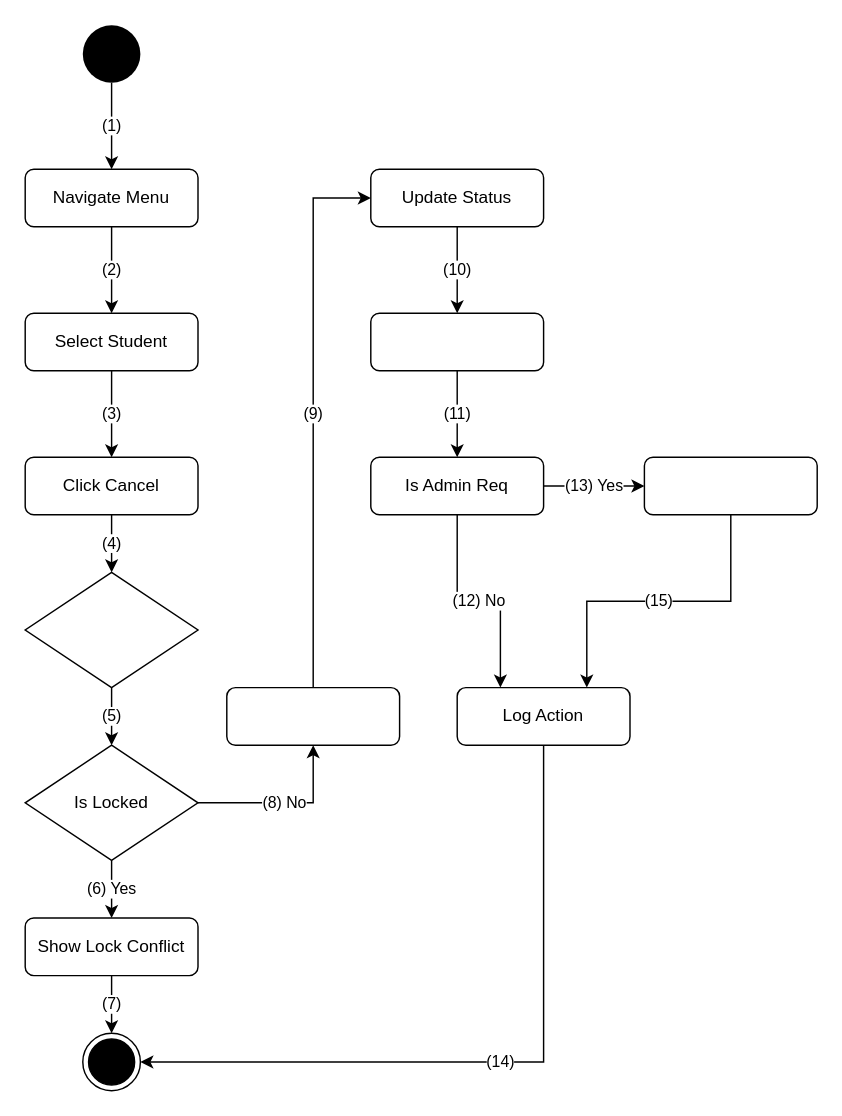
Image size: 842x1116. Some labels were removed from this diagram. The shapes that lost their labels are listed below. From the top down, each one's centre as x and y in pixels, then its label:
At [456,341]: "Check Admin Req".
At [730,485]: "Request Admin".
At [111,629]: "Check Data Lock".
At [312,715]: "Enter Reason".
